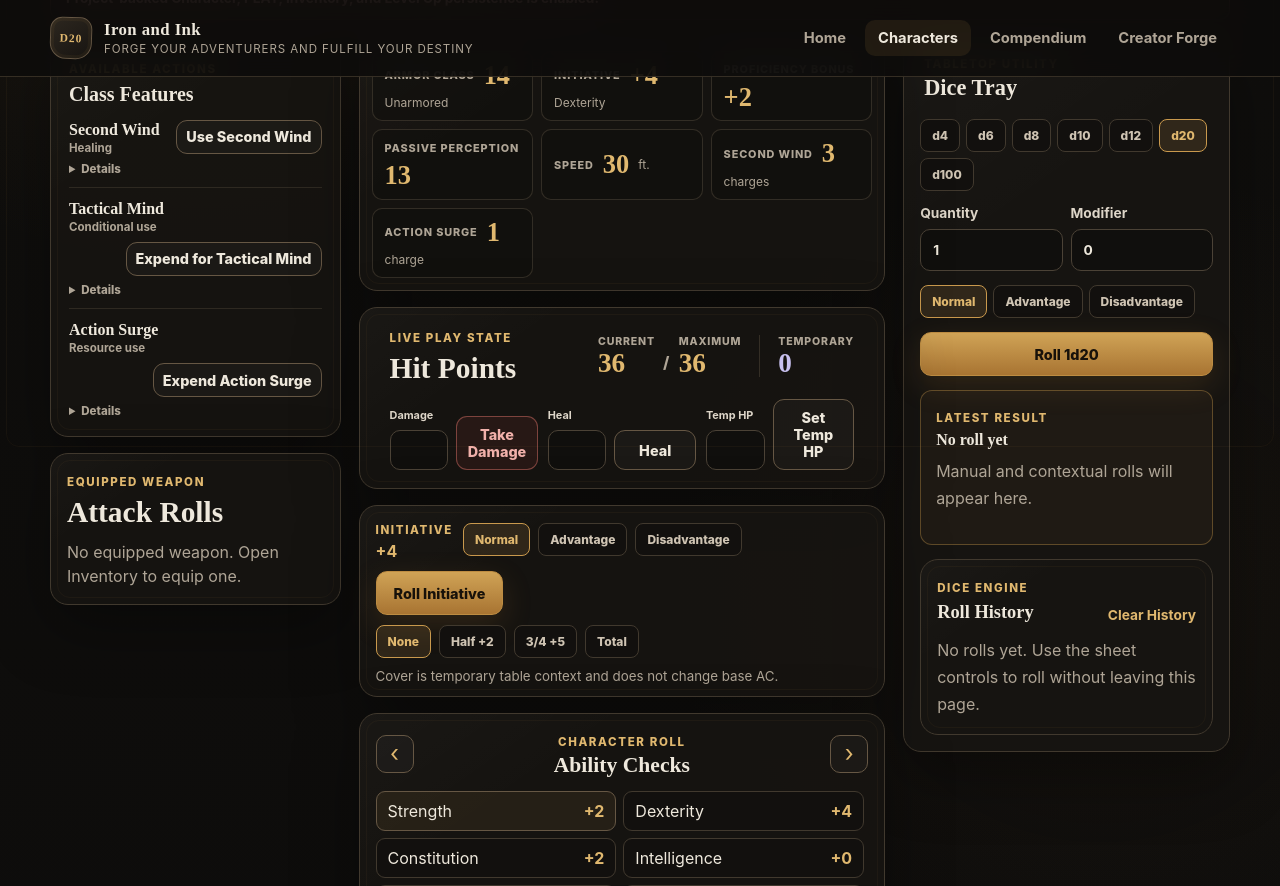
Project Persistence Phase E › 27. successful Character publication updates mounted PLAY consumer
This screenshot has width=1280, height=886.
(page scrolled)
Type "5" into the number field named "Damage amount" at (419, 450), box [390, 430, 448, 470]
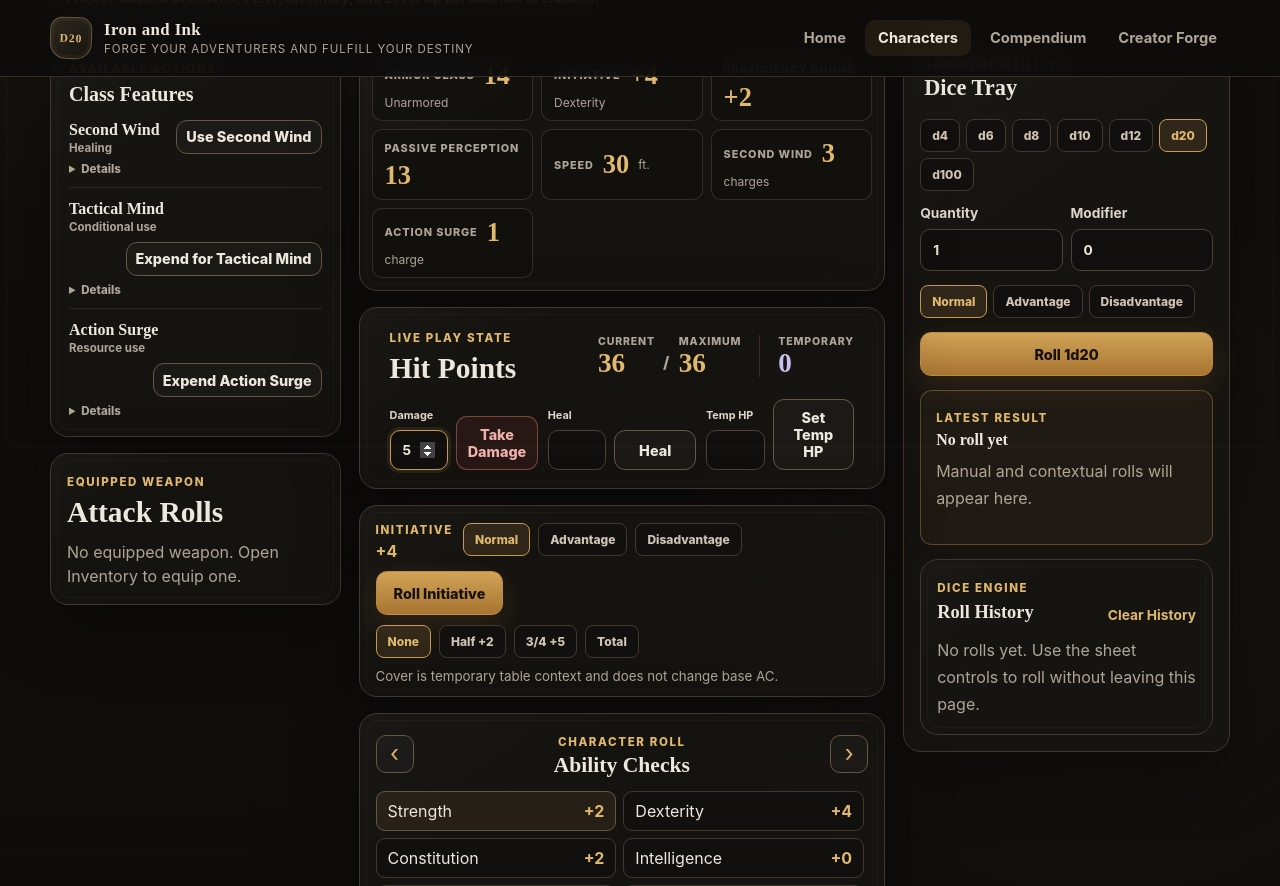
Click the button "Take Damage" at (497, 443), box [456, 416, 538, 470]
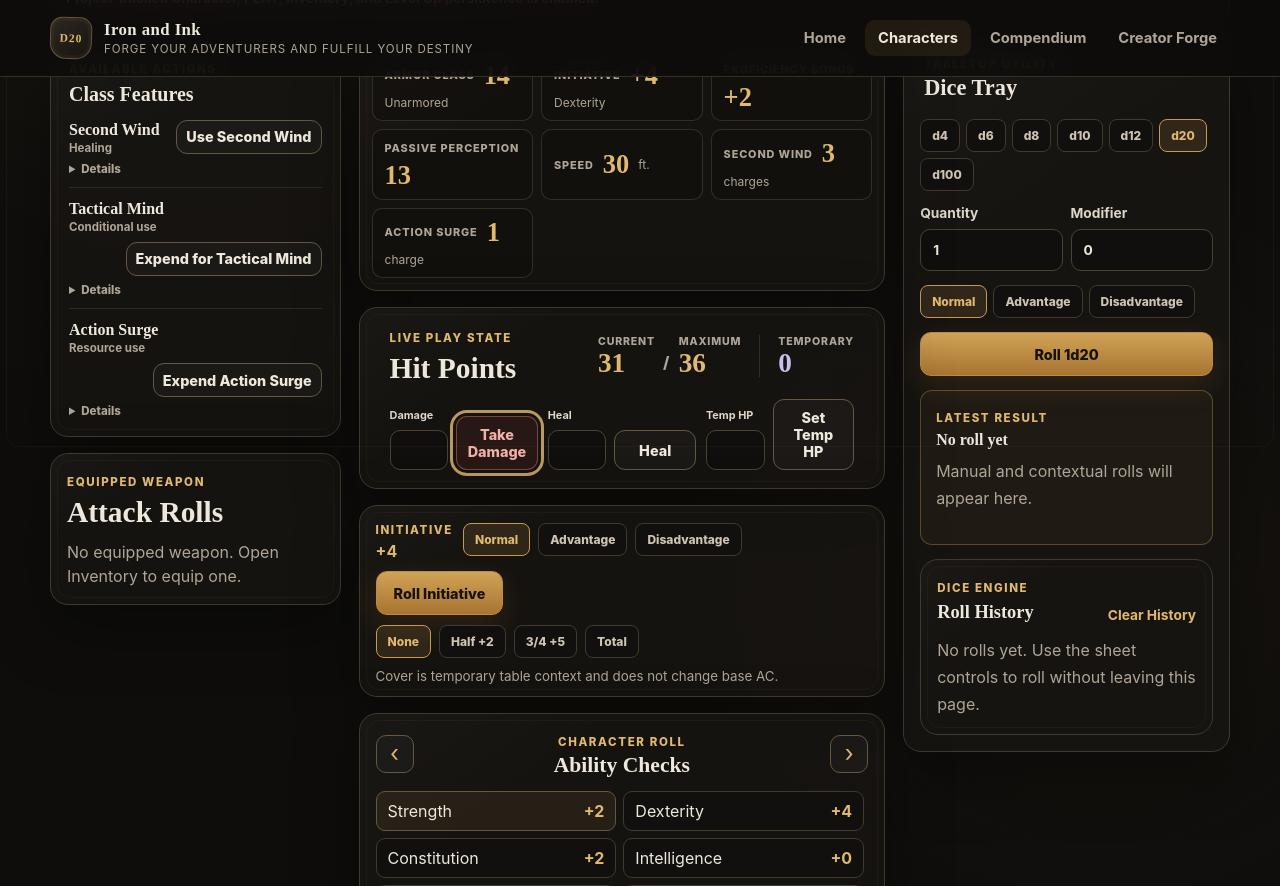
Result: the text "31" is shown at [598, 348, 625, 378]
